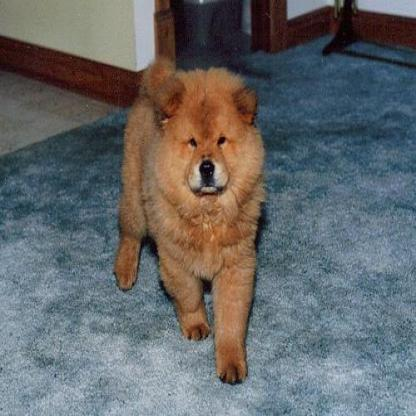chow: (111, 56, 266, 388)
